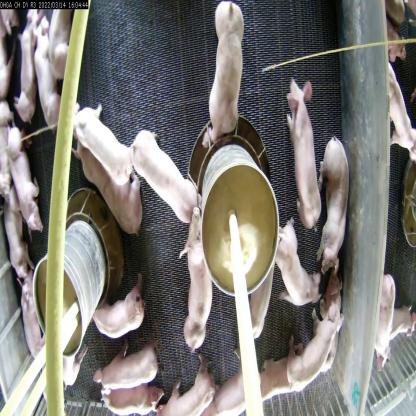Pig: (71, 134, 153, 244), (281, 66, 327, 236), (132, 122, 201, 227), (173, 209, 220, 356), (70, 99, 146, 188), (204, 0, 248, 149), (288, 278, 339, 389), (4, 121, 47, 238), (83, 276, 146, 351), (315, 131, 346, 279), (88, 338, 157, 398), (13, 13, 44, 140), (250, 347, 299, 415), (275, 223, 315, 305), (34, 8, 60, 130), (206, 362, 257, 415), (51, 5, 80, 97), (165, 362, 214, 415), (100, 376, 164, 415)
